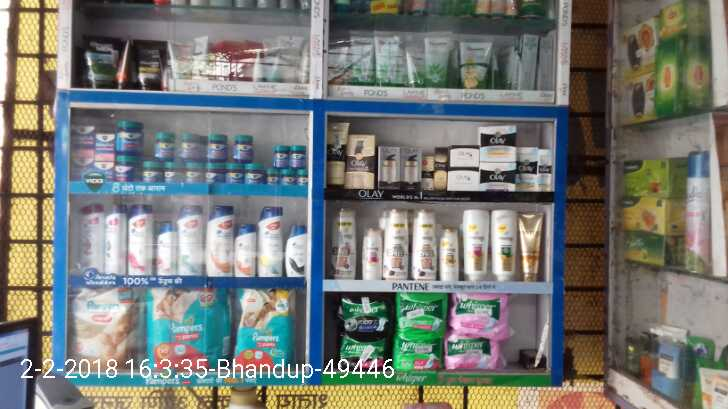vicks: (71, 118, 308, 185)
